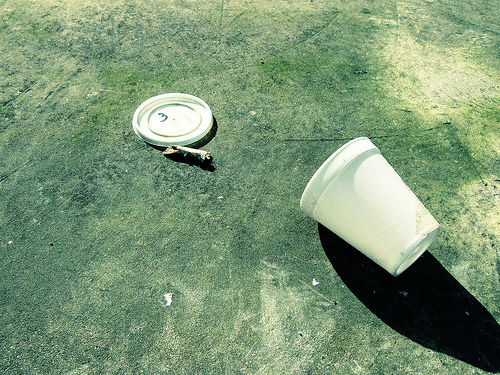litter: (298, 137, 441, 278), (131, 91, 214, 145), (163, 145, 214, 167)
